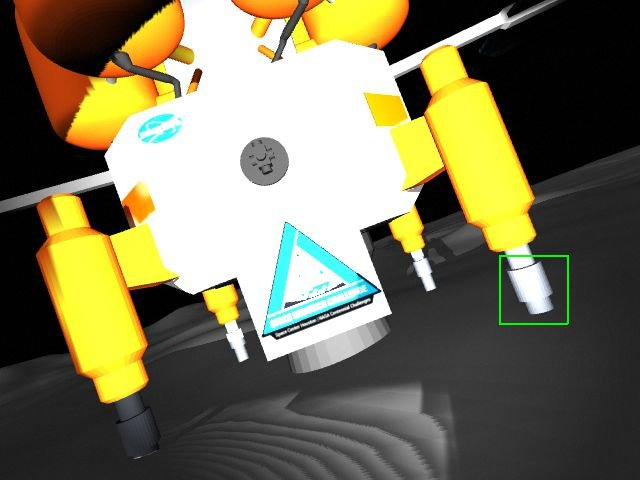basemarker: (261, 222, 382, 341)
